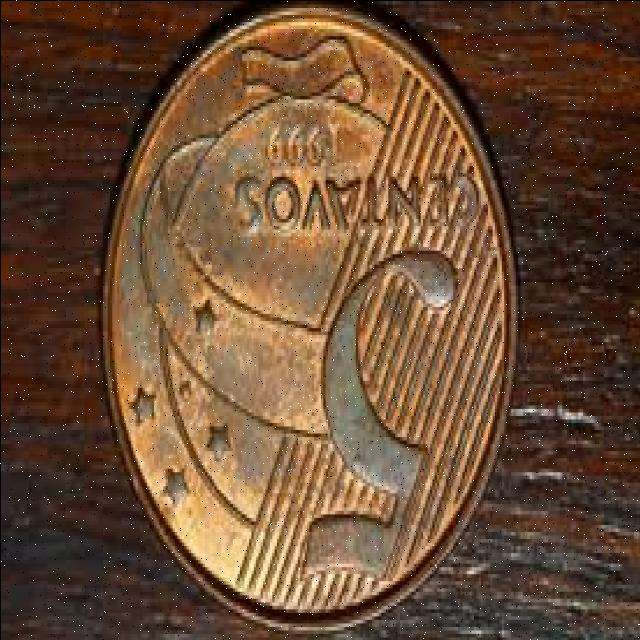5 cent: (100, 14, 510, 634)
